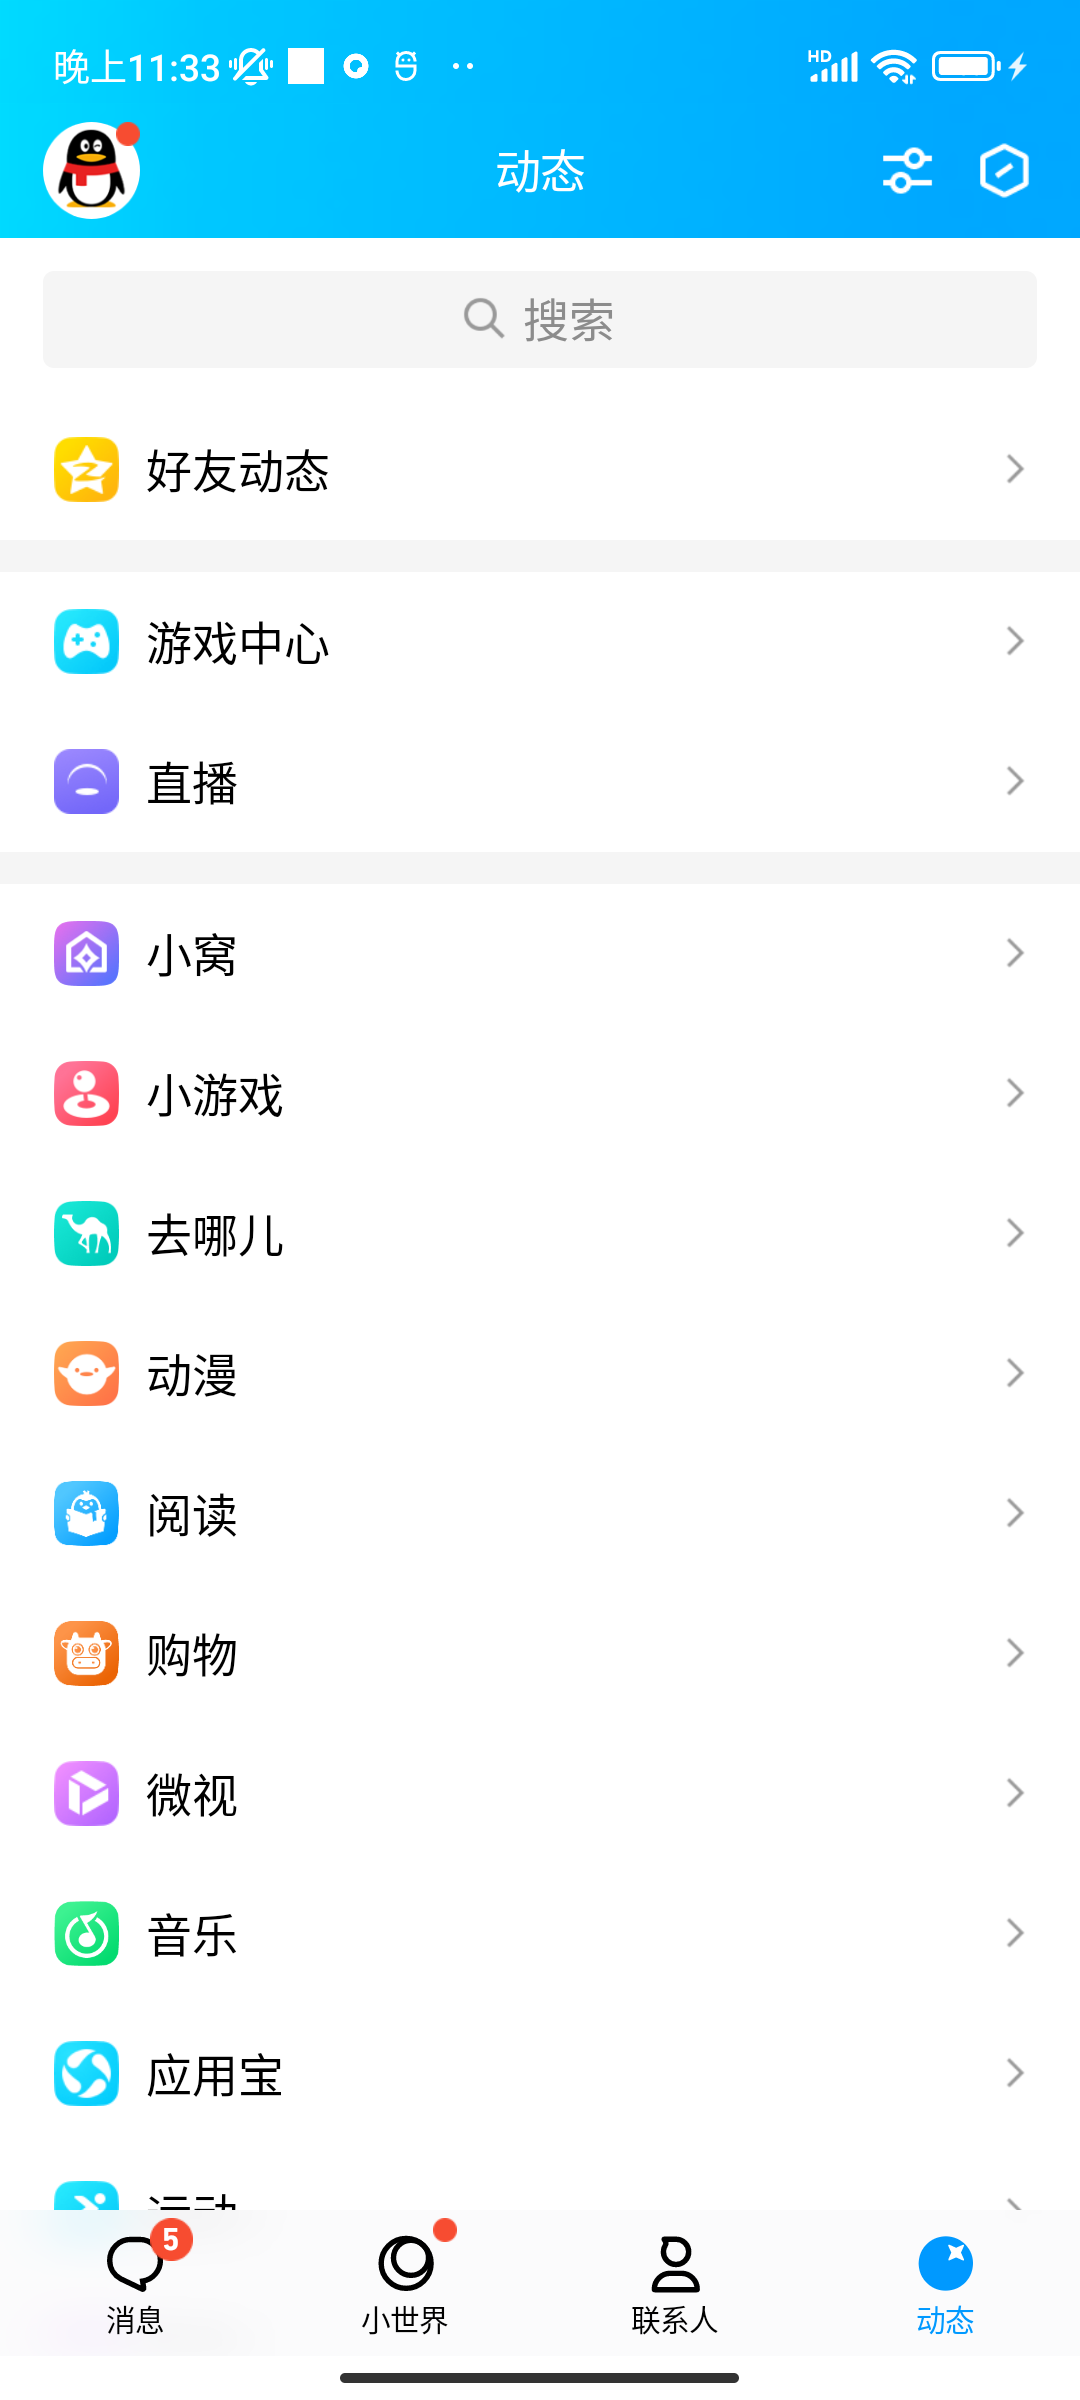ui_group: (34, 719, 1043, 853), (38, 263, 1036, 364), (57, 2201, 225, 2382)
